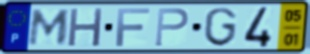4: (242, 5, 274, 49)
F: (114, 7, 152, 48)
G: (203, 7, 238, 49)
H: (66, 6, 106, 48)
M: (27, 8, 73, 48)
P: (153, 7, 191, 48)
